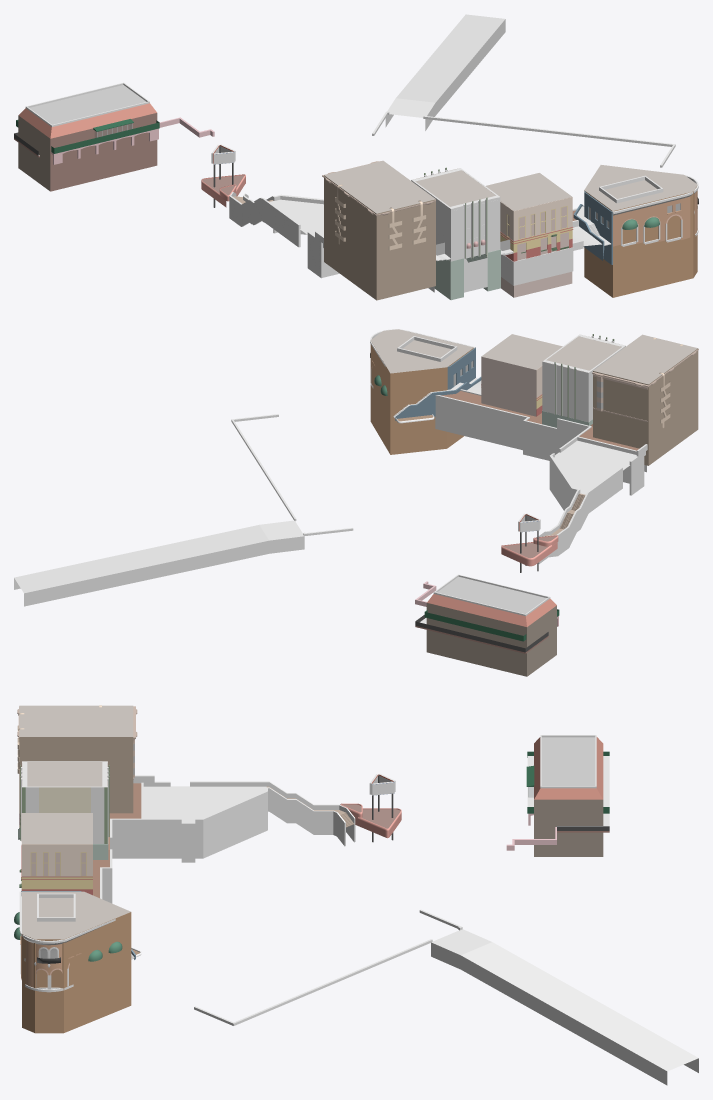
The model's file is city_west3.dae.
3 renders of one model, top to bottom at view 1: azimuth 30°, elevation 25°; view 2: azimuth 150°, elevation 25°; view 3: azimuth 270°, elevation 25°, orthographic. The views are drawn at different scales.
Visible parts, largest first — view 1: city_west3_a2000, city_west3_a3000; view 2: city_west3_a2000, city_west3_a3000; view 3: city_west3_a3000, city_west3_a2000.
Part boxes in pixels (<box>): city_west3_a2000: <box>18,85,697,300</box>; city_west3_a3000: <box>14,14,698,300</box>; city_west3_a2000: <box>370,329,698,676</box>; city_west3_a3000: <box>14,329,698,653</box>; city_west3_a3000: <box>14,705,698,1085</box>; city_west3_a2000: <box>19,705,603,1033</box>.
Size of the model in its own units: 145 by 154 by 38.46.
